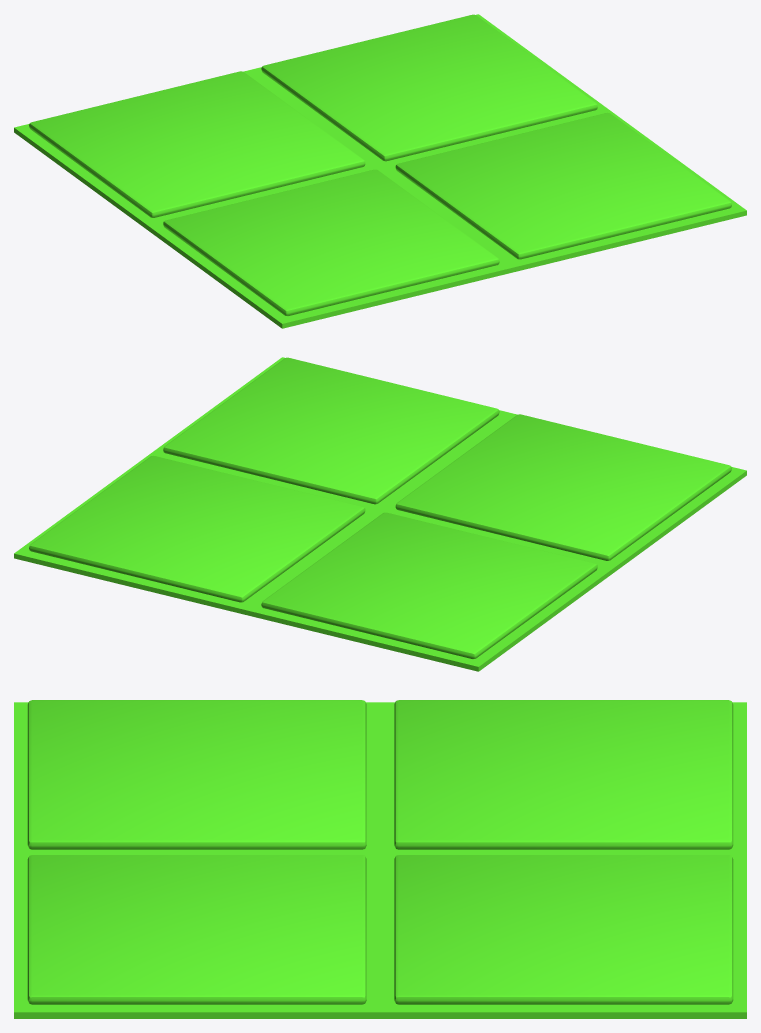
Rendered from SpawnTiles.fbx.
3 renders of one model, top to bottom at view 1: azimuth 30°, elevation 25°; view 2: azimuth 150°, elevation 25°; view 3: azimuth 270°, elevation 25°, orthographic. The views are drawn at different scales.
Parts seen in each view (by area): view 1: SpawnTiles; view 2: SpawnTiles; view 3: SpawnTiles.
Boxes of the visible parts, left/top/right/bottom form: SpawnTiles: left=14, top=14, right=746, bottom=328; SpawnTiles: left=14, top=357, right=746, bottom=671; SpawnTiles: left=14, top=700, right=746, bottom=1018.
Bounding box in the file's own units: 8 × 0.2 × 8.
